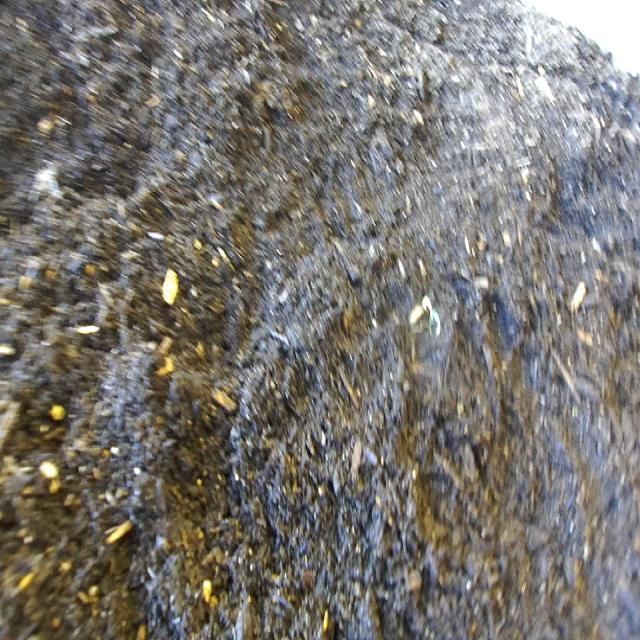Unhealthy: (405, 269, 452, 363)
